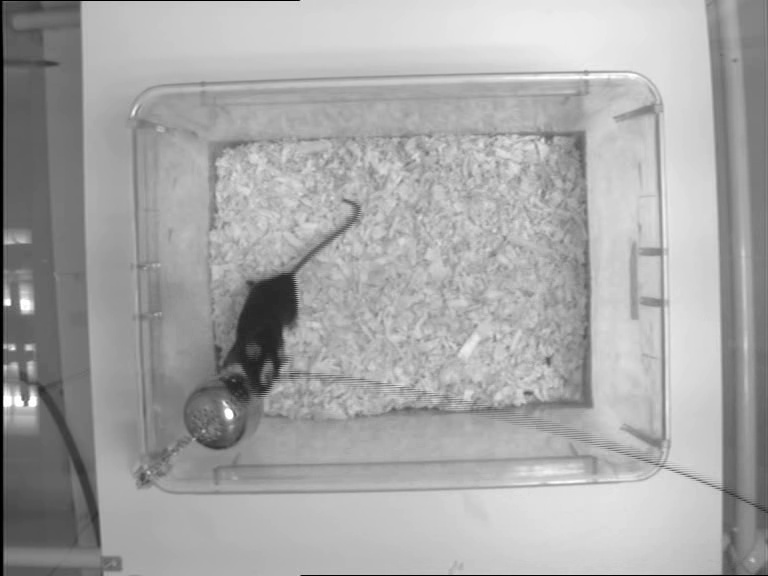mice: (211, 195, 365, 394)
